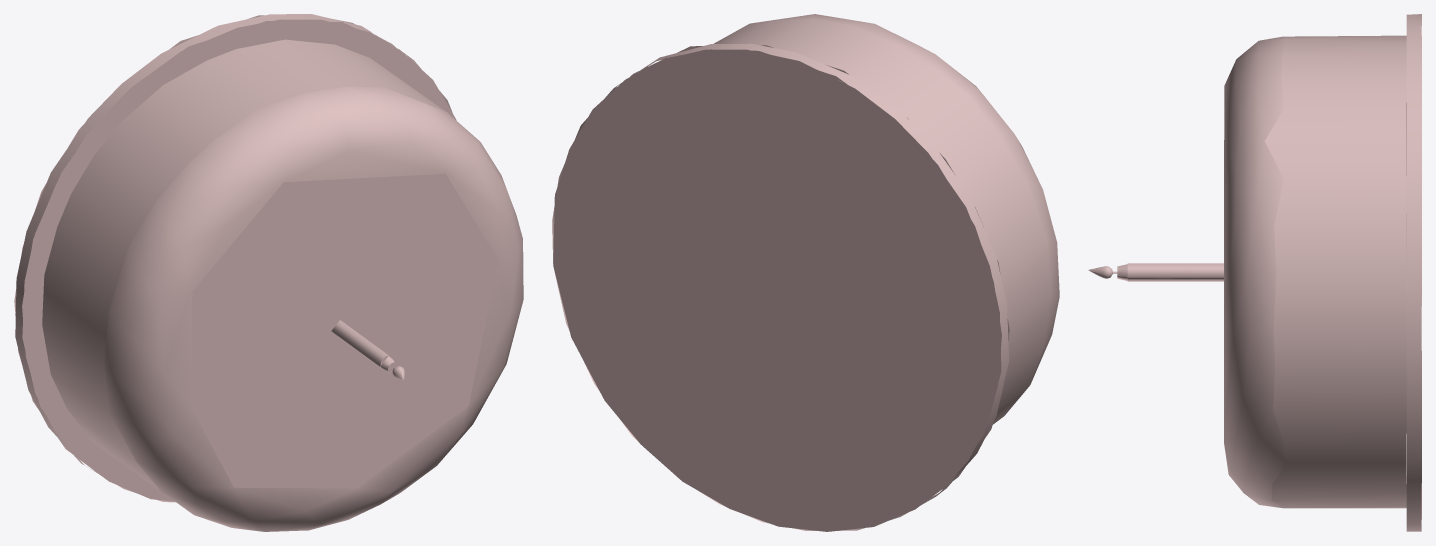
The model's file is birthday cake2 pivot correct.fbx.
The picture shows the model from 3 angles, left to right: view 1: azimuth 30°, elevation 25°; view 2: azimuth 150°, elevation 25°; view 3: azimuth 270°, elevation 25°; orthographic projection.
Parts seen in each view (by area): view 1: Object_1, Object_3, Object_4; view 2: Object_3, Object_1; view 3: Object_1, Object_3, Object_4.
Boxes of the visible parts, x1,y1,x2,y2 form: Object_1: [40, 39, 523, 531]; Object_3: [14, 14, 456, 502]; Object_4: [331, 320, 399, 374]; Object_3: [552, 43, 1009, 531]; Object_1: [713, 14, 1059, 424]; Object_1: [1224, 35, 1406, 508]; Object_3: [1406, 14, 1421, 531]; Object_4: [1117, 263, 1223, 281].
Bounding box in the file's own units: 25.04 × 25.06 × 16.14.
